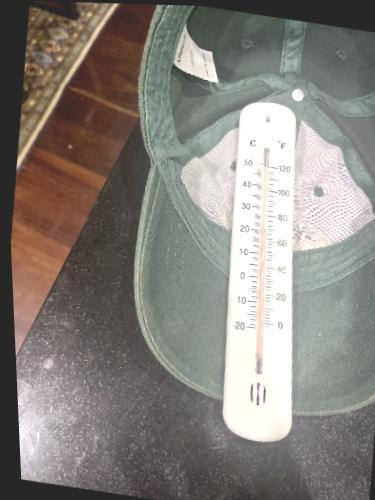thermo: (219, 99, 315, 439)
